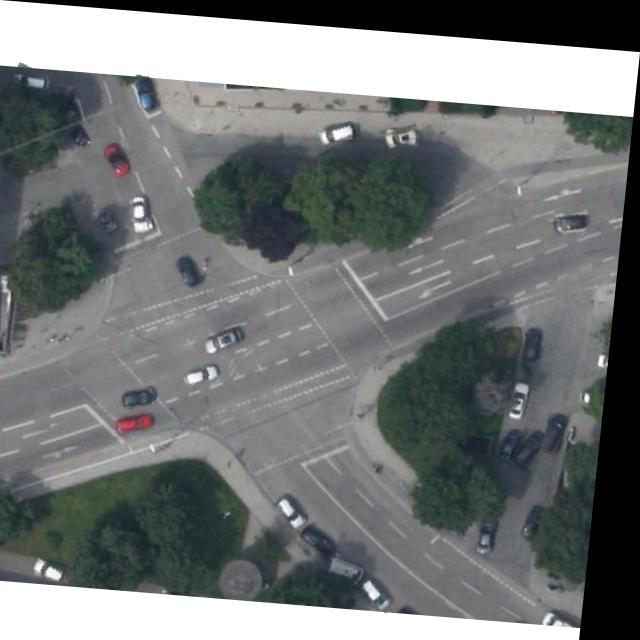vehicle: (337, 542, 380, 581), (125, 188, 162, 233), (309, 515, 349, 554), (208, 319, 252, 352), (175, 248, 214, 285), (522, 416, 554, 461), (11, 64, 54, 97), (369, 569, 408, 604), (103, 138, 136, 178), (123, 405, 165, 436), (555, 196, 595, 228), (284, 490, 319, 524), (132, 73, 165, 109), (128, 380, 166, 411), (550, 401, 577, 443), (190, 356, 228, 385), (530, 494, 556, 533), (485, 505, 509, 546), (320, 115, 359, 140), (386, 116, 423, 141), (527, 315, 551, 351), (516, 371, 538, 410), (69, 120, 96, 150), (44, 558, 80, 580), (507, 421, 529, 454), (101, 204, 125, 231)
